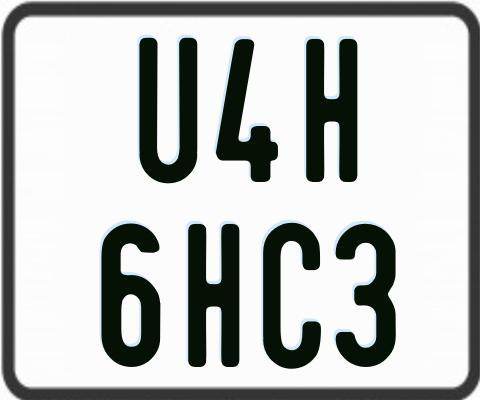3: (333, 222, 394, 367)
4: (213, 38, 279, 183)
6: (101, 223, 162, 369)
C: (262, 222, 321, 372)
H: (303, 37, 359, 186), (185, 223, 242, 368)
U: (137, 36, 197, 183)
